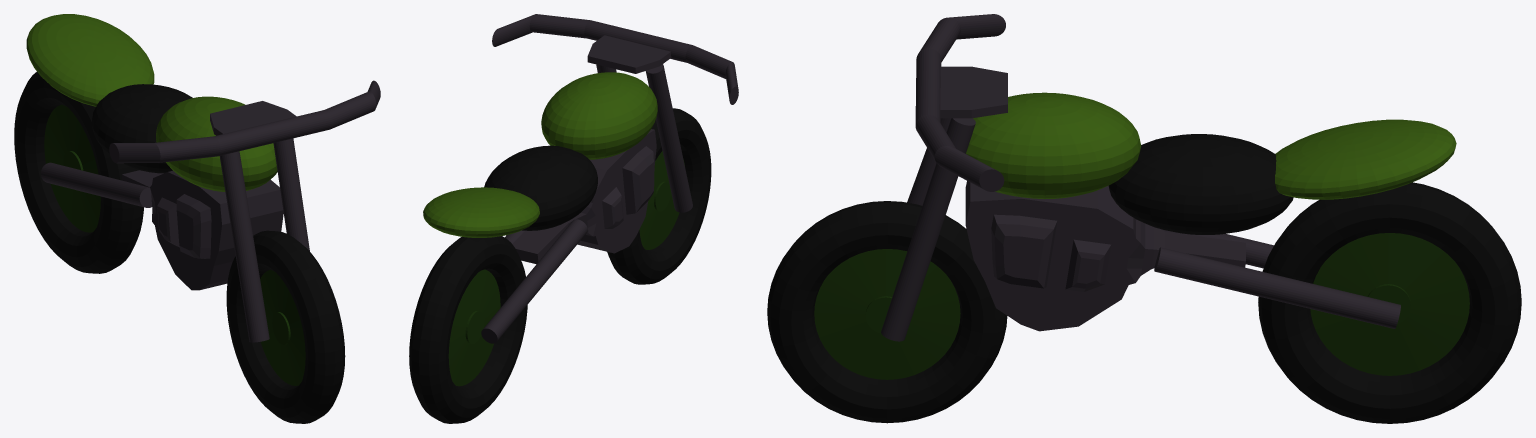
Rendered from motorbike.obj.
3 views of the same model, side by side, from view 1: azimuth 30°, elevation 25°; view 2: azimuth 150°, elevation 25°; view 3: azimuth 270°, elevation 25° (orthographic). The views are drawn at different scales.
Parts seen in each view (by area): view 1: Front_Wheel, Rear_Wheel, Engine, Sphere.002, Cylinder.003, Sphere, Sphere.001, Cylinder, Read_Hub, Front_Hub, Cylinder.004, Cylinder.001 (+1 smaller); view 2: Rear_Wheel, Sphere, Engine, Front_Wheel, Sphere.001, Sphere.002, Cylinder.003, Read_Hub, Cylinder.004, Cylinder, Cube.001, Front_Hub; view 3: Rear_Wheel, Front_Wheel, Engine, Read_Hub, Sphere, Sphere.001, Front_Hub, Sphere.002, Cylinder.002, Cylinder.003, Cylinder.001, Cube.001 (+2 smaller).
Boxes of the visible parts, x1=… form: Front_Wheel: x1=226, y1=230, x2=345, y2=423; Rear_Wheel: x1=14, y1=72, x2=143, y2=273; Engine: x1=122, y1=170, x2=283, y2=290; Sphere.002: x1=26, y1=14, x2=154, y2=106; Cylinder.003: x1=109, y1=80, x2=380, y2=163; Sphere: x1=156, y1=96, x2=277, y2=191; Sphere.001: x1=91, y1=84, x2=192, y2=173; Cylinder: x1=219, y1=151, x2=269, y2=342; Read_Hub: x1=44, y1=104, x2=100, y2=232; Front_Hub: x1=260, y1=269, x2=305, y2=385; Cylinder.004: x1=41, y1=162, x2=151, y2=207; Cylinder.001: x1=273, y1=138, x2=309, y2=251; Rear_Wheel: x1=409, y1=236, x2=527, y2=423; Sphere: x1=541, y1=72, x2=657, y2=159; Engine: x1=512, y1=129, x2=656, y2=264; Front_Wheel: x1=607, y1=108, x2=711, y2=284; Sphere.001: x1=484, y1=145, x2=597, y2=230; Sphere.002: x1=423, y1=187, x2=539, y2=237; Cylinder.003: x1=492, y1=14, x2=738, y2=104; Read_Hub: x1=448, y1=269, x2=500, y2=386; Cylinder.004: x1=481, y1=219, x2=587, y2=343; Cylinder: x1=645, y1=64, x2=692, y2=212; Cube.001: x1=587, y1=35, x2=671, y2=73; Front_Hub: x1=639, y1=151, x2=684, y2=249; Rear_Wheel: x1=1258, y1=182, x2=1521, y2=423; Front_Wheel: x1=767, y1=201, x2=1007, y2=423; Engine: x1=965, y1=181, x2=1245, y2=331; Read_Hub: x1=1310, y1=233, x2=1469, y2=375; Sphere: x1=966, y1=92, x2=1141, y2=199; Sphere.001: x1=1108, y1=134, x2=1293, y2=234; Front_Hub: x1=814, y1=249, x2=960, y2=379; Sphere.002: x1=1275, y1=119, x2=1456, y2=199; Cylinder.002: x1=1154, y1=247, x2=1400, y2=328; Cylinder.003: x1=915, y1=14, x2=1005, y2=191; Cylinder.001: x1=881, y1=118, x2=975, y2=341; Cube.001: x1=940, y1=66, x2=1007, y2=118.
Size of the model in its own units: 2.38 by 2.45 by 4.9.
